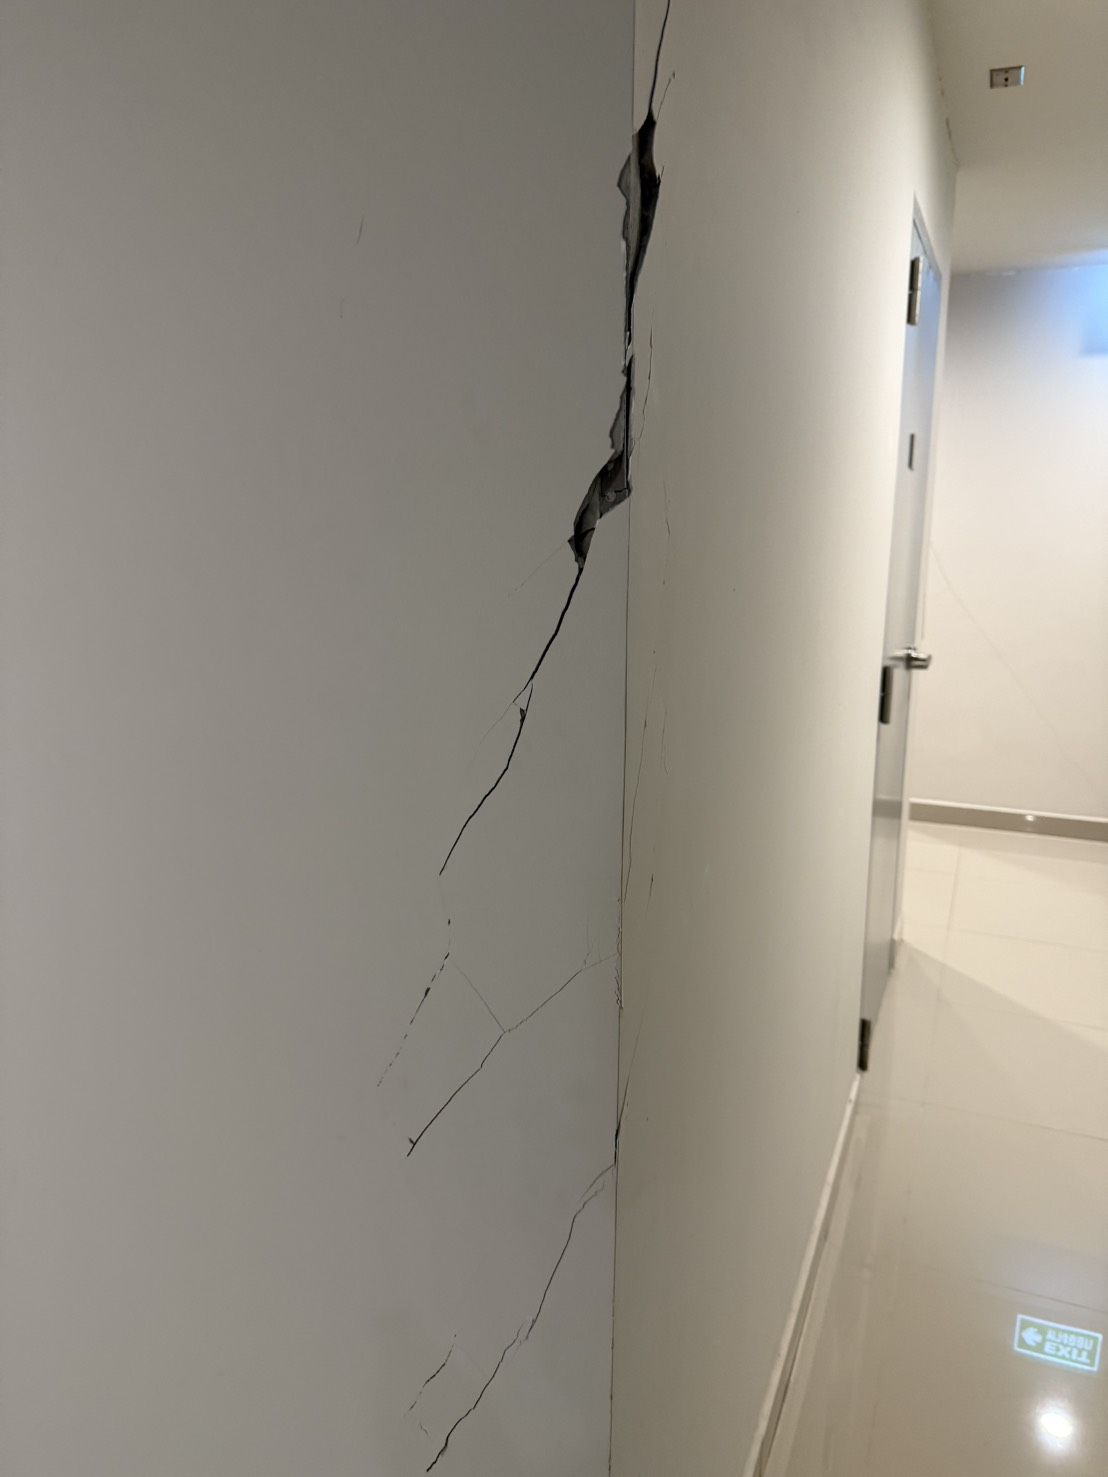Medium: (453, 59, 683, 887)
